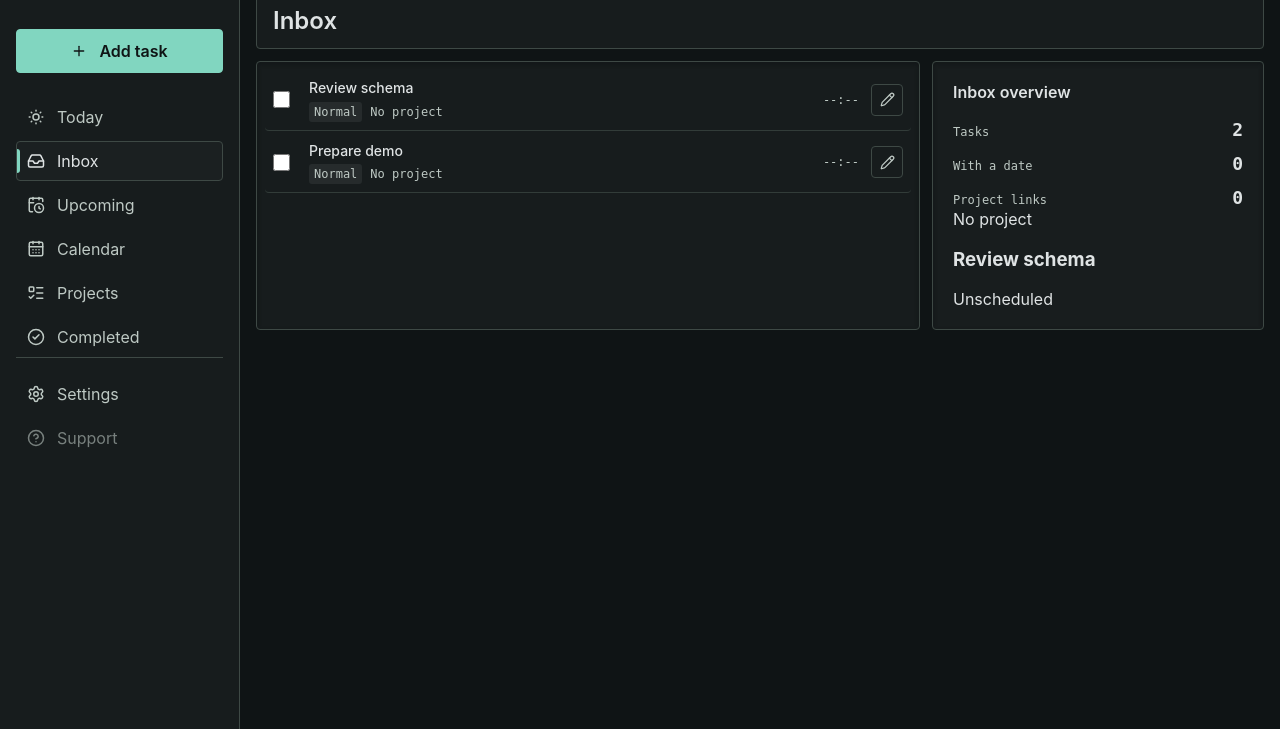
Scenario: does not reload or close a newer editor after an earlier subtask completion resolves late
The width and height of the screenshot is (1280, 729).
Click the button named "Edit task Review schema". click: (887,100)
box: [871,84,903,116]
(page scrolled)
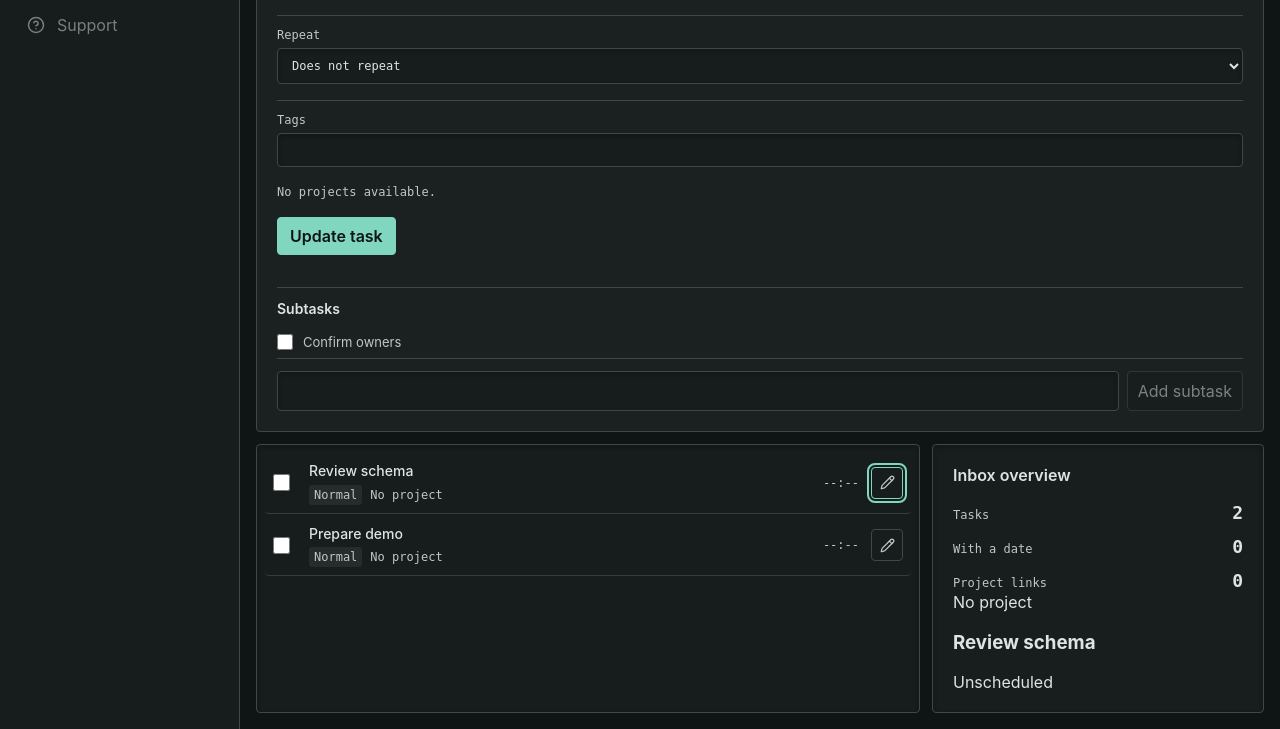
Expected: the checkbox named "Complete task Confirm owners" is shown
Click the checkbox named "Complete task Confirm owners". click: (285,342)
box: [277,334,293,350]
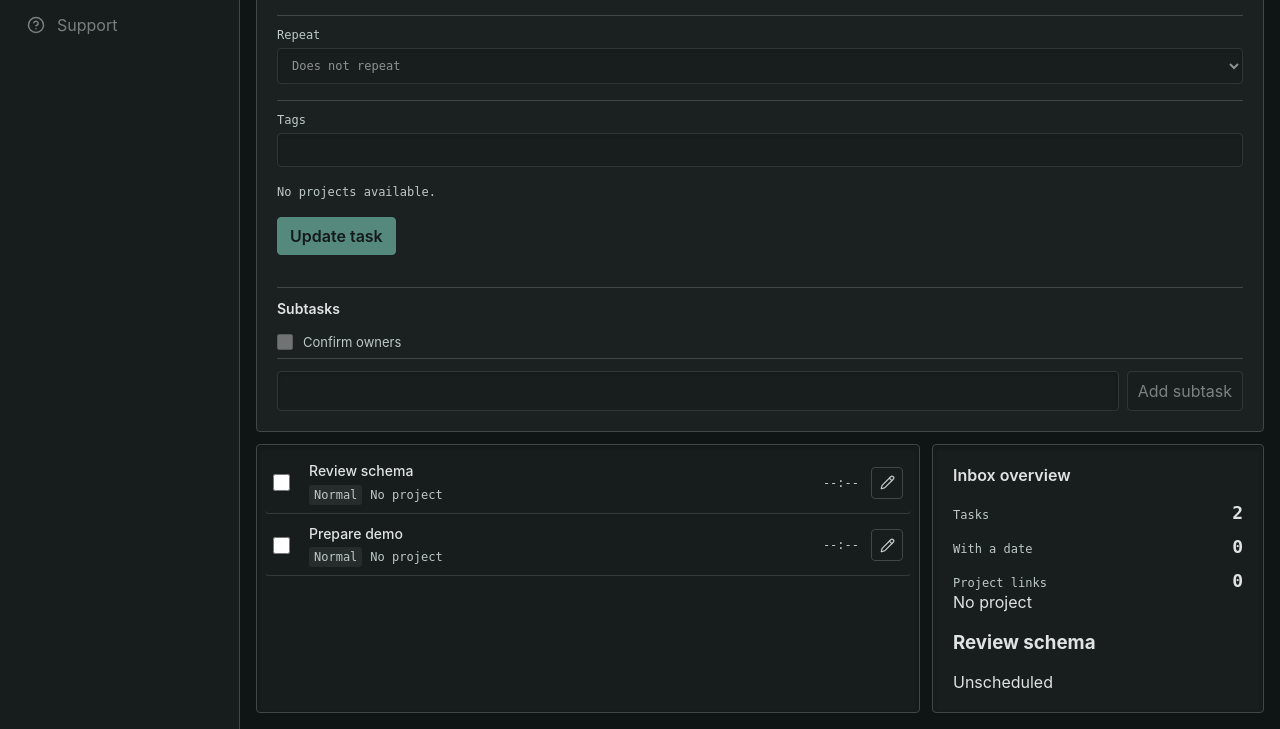
Click the button named "Edit task Prepare demo". click: (887,545)
box: [871,529,903,561]
(page scrolled)
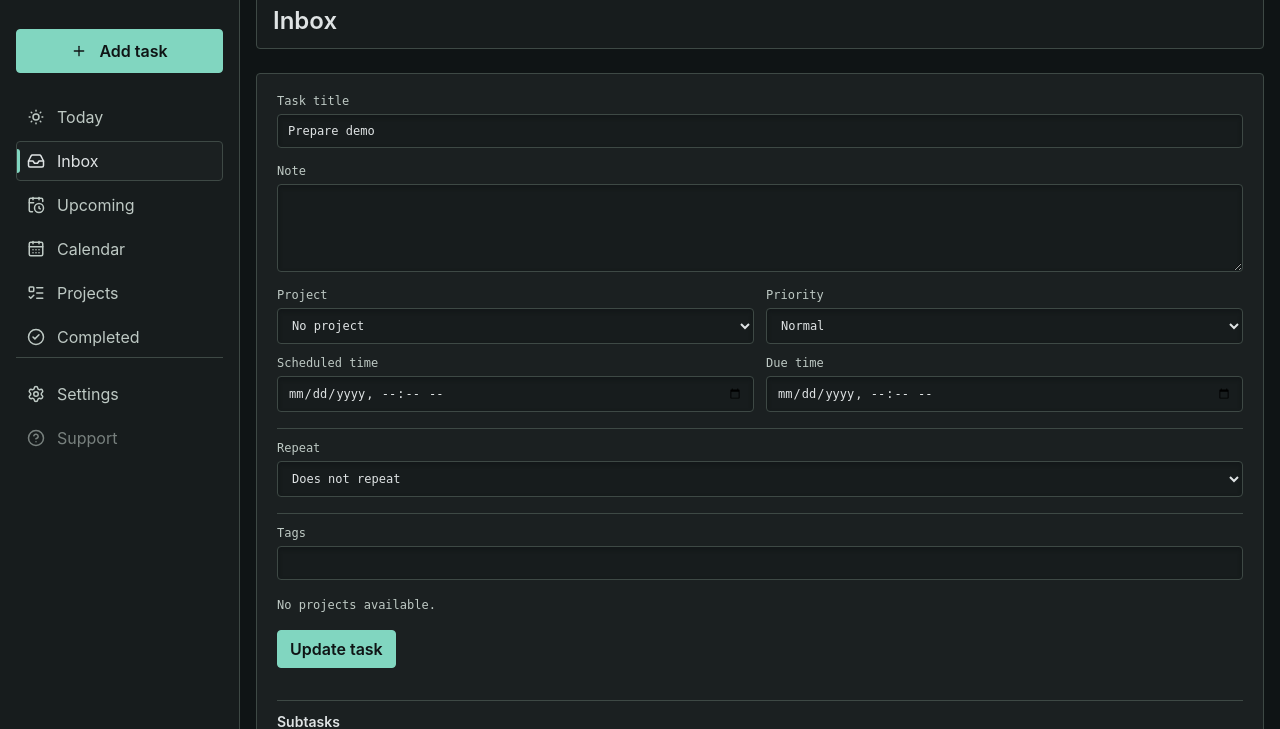
Expected: the field showing "Prepare demo" is shown, [277,114,1243,148]
